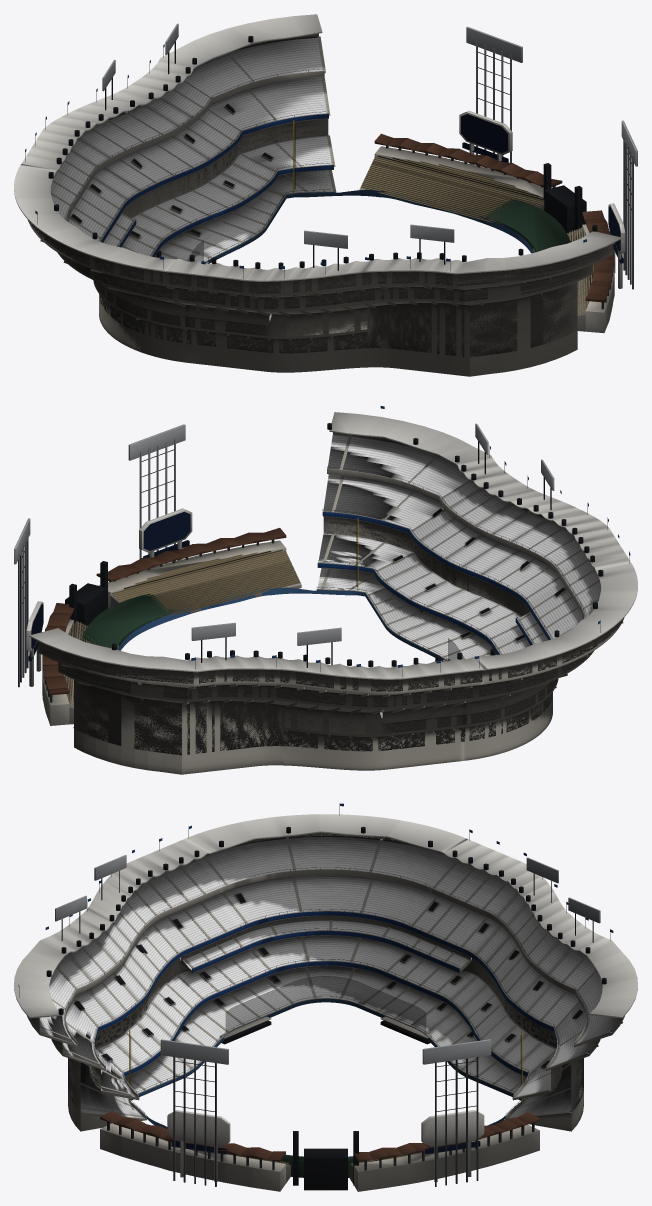
File: dodger.glb
The picture shows the model from 3 angles, top to bottom: view 1: azimuth 30°, elevation 25°; view 2: azimuth 150°, elevation 25°; view 3: azimuth 270°, elevation 25°; orthographic projection. The views are drawn at different scales.
Visible parts, largest first — view 1: Deck_field, Roof, SeatRows_top, SeatRows_reserve, Vomitory_Walls, SeatRows_loge, Pavilion_Benches_0, SeatRows_field, Vomitory_Openings, Pavilion_Roof_2, Roof_Light_Bank_55_1, Pavilion_Frame_32 (+5 smaller); view 2: Deck_field, Roof, SeatRows_reserve, SeatRows_top, Vomitory_Walls, Pavilion_Benches_0, SeatRows_loge, SeatRows_field, Pavilion_Roof_2, Vomitory_Openings, Roof_Light_Bank_55_1, Pavilion_Frame_32 (+5 smaller); view 3: Roof, Vomitory_Walls, SeatRows_reserve, SeatRows_top, Deck_field, SeatRows_loge, SeatRows_field, LED_Ribbon_loge, Vomitory_Openings, Foul_Pole_Screen_1B, Pavilion_Frame_32, Roof_Light_Bank_55_1 (+4 smaller).
Part boxes in pixels (x1,y1,x2,y2): Deck_field: (27, 33, 613, 376); Roof: (14, 14, 625, 288); SeatRows_top: (50, 36, 322, 220); SeatRows_reserve: (68, 76, 326, 241); Vomitory_Walls: (40, 36, 614, 357); SeatRows_loge: (121, 135, 331, 256); Pavilion_Benches_0: (361, 156, 594, 314); SeatRows_field: (155, 170, 332, 261); Vomitory_Openings: (48, 36, 597, 269); Pavilion_Roof_2: (374, 133, 614, 302); Roof_Light_Bank_55_1: (102, 23, 637, 248); Pavilion_Frame_32: (386, 41, 633, 309); Deck_field: (38, 432, 624, 774); Roof: (26, 412, 637, 686); SeatRows_reserve: (323, 474, 583, 638); SeatRows_top: (327, 434, 601, 617); Vomitory_Walls: (37, 435, 623, 755); Pavilion_Benches_0: (64, 549, 300, 706); SeatRows_loge: (318, 533, 529, 654); SeatRows_field: (317, 568, 496, 659); Pavilion_Roof_2: (42, 528, 286, 694); Vomitory_Openings: (65, 423, 603, 667); Roof_Light_Bank_55_1: (14, 423, 554, 645); Pavilion_Frame_32: (18, 439, 274, 702); Roof: (14, 814, 637, 1181); Vomitory_Walls: (33, 837, 622, 1191); SeatRows_reserve: (62, 874, 589, 1068); SeatRows_top: (39, 836, 612, 1044); Deck_field: (27, 832, 624, 1131); SeatRows_loge: (96, 935, 556, 1097); SeatRows_field: (80, 966, 571, 1118); LED_Ribbon_loge: (94, 911, 557, 1154); Vomitory_Openings: (46, 826, 606, 1190); Foul_Pole_Screen_1B: (130, 976, 521, 1085); Pavilion_Frame_32: (107, 1057, 534, 1186); Roof_Light_Bank_55_1: (55, 855, 600, 1064).
Bounding box in the file's own units: 219 × 64.6 × 227.
22 materials, 5 textured.
